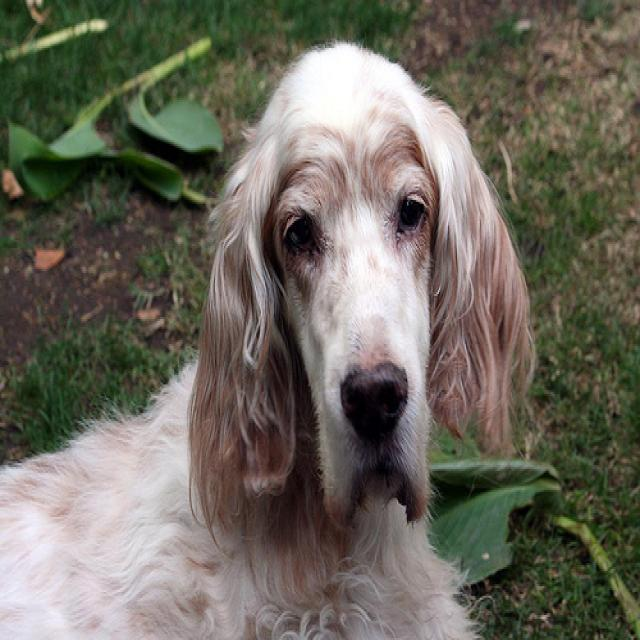dog-english_setter: (1, 35, 544, 636)
